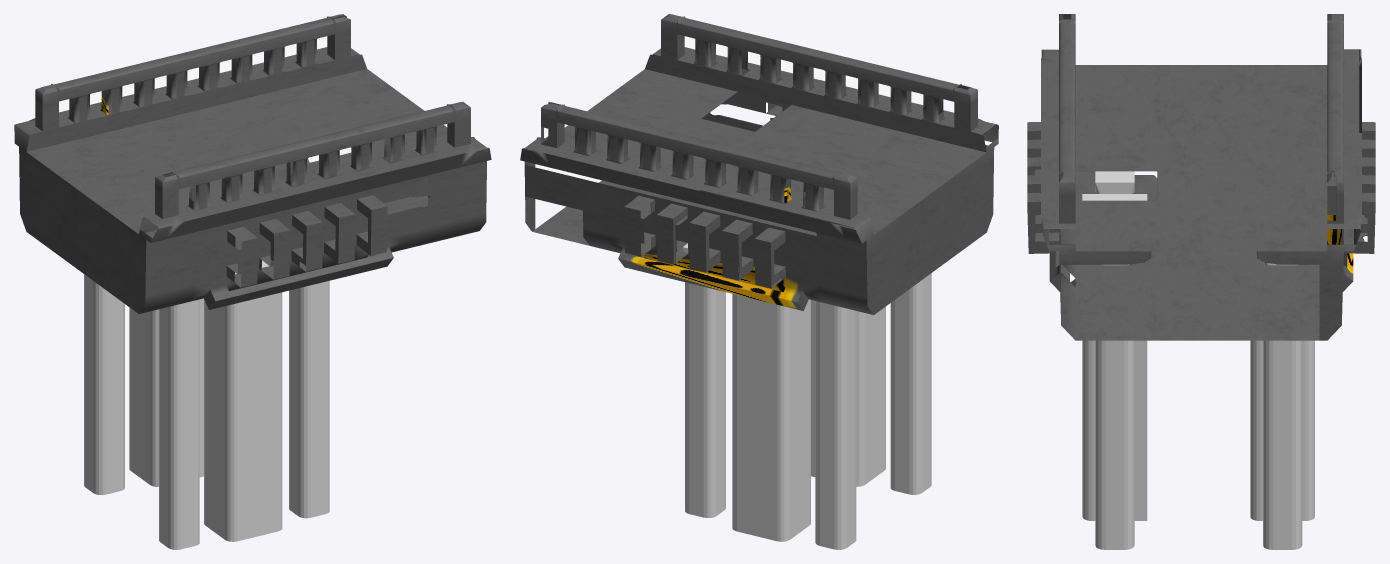
File: brdg1.fbx
3 views of the same model, side by side, from view 1: azimuth 30°, elevation 25°; view 2: azimuth 150°, elevation 25°; view 3: azimuth 270°, elevation 25° (orthographic). The views are drawn at different scales.
Parts seen in each view (by area): view 1: Bridge; view 2: Bridge; view 3: Bridge.
Boxes of the visible parts, <box> form: Bridge: <box>14,14,491,549</box>; Bridge: <box>520,14,998,549</box>; Bridge: <box>1027,14,1375,549</box>.
Bounding box in the file's own units: 314 × 343 × 248.
